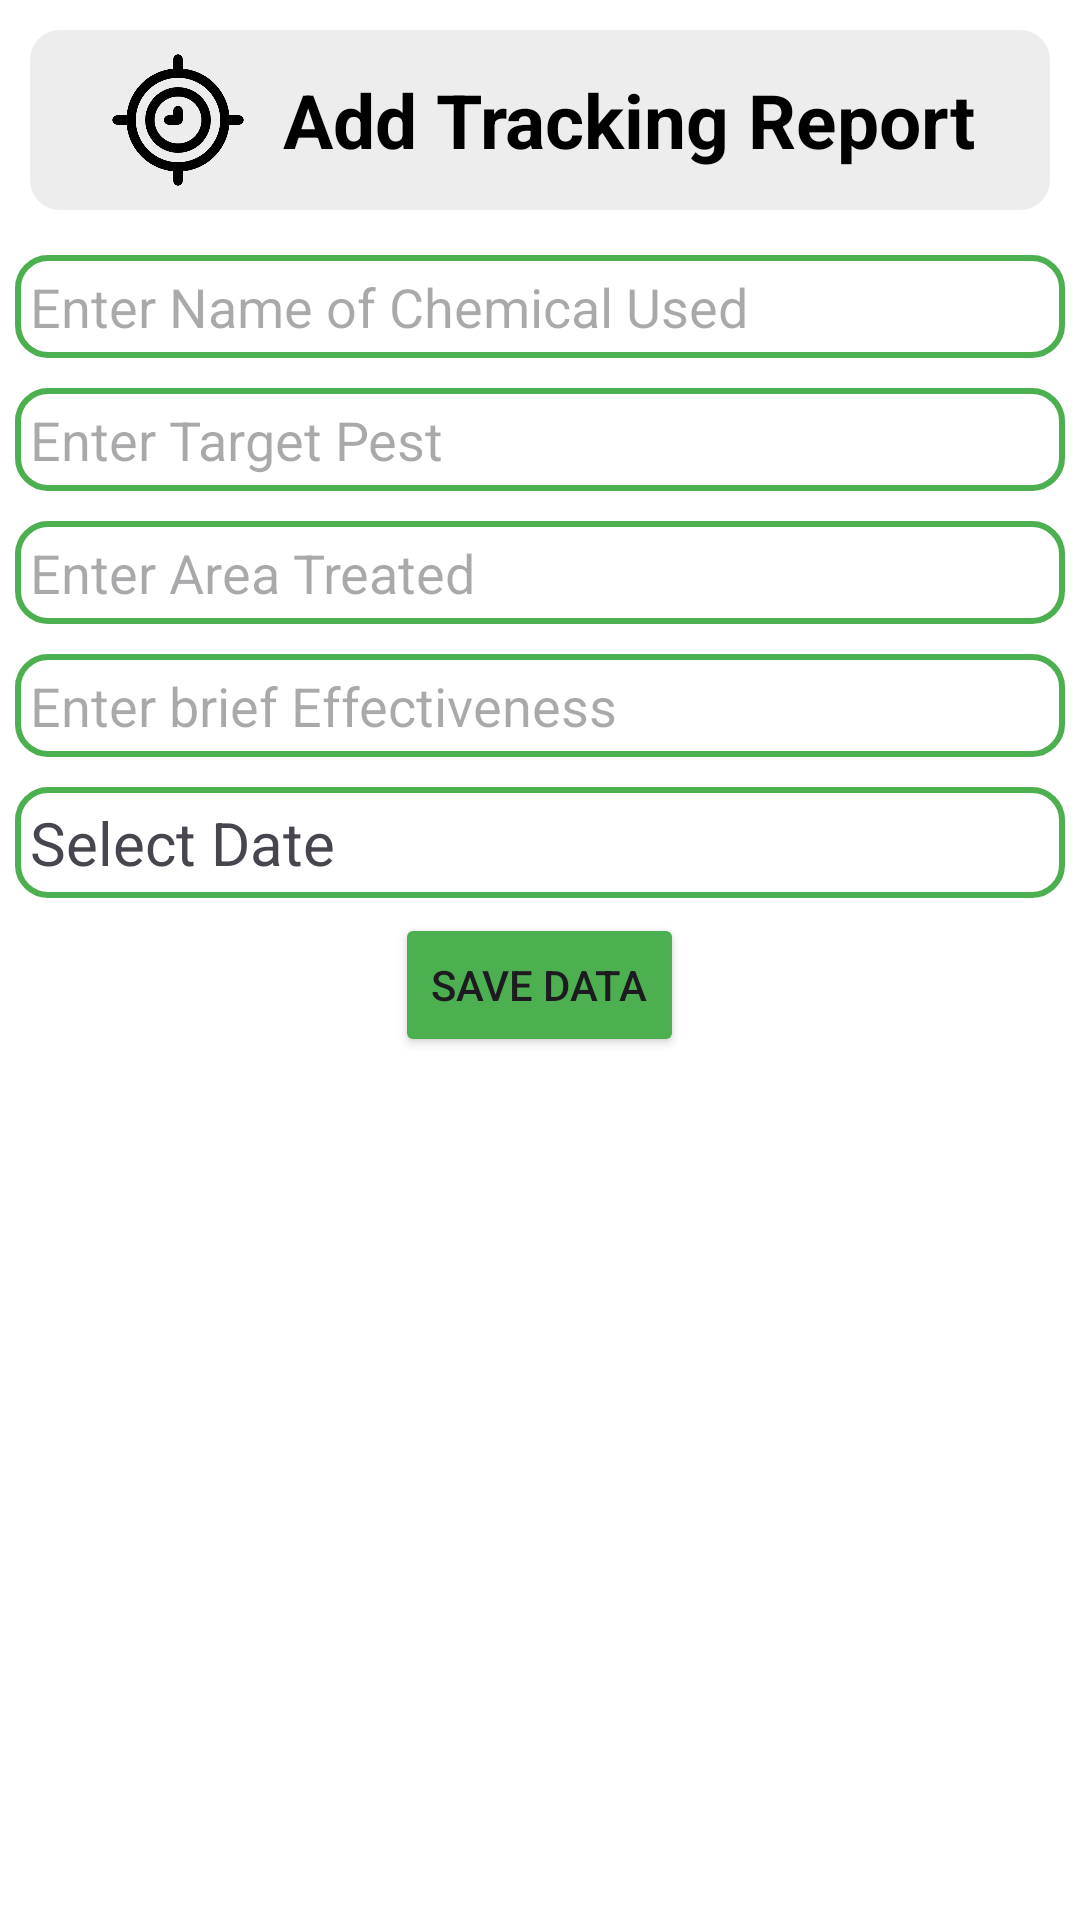

Named icons in this screenshot (1080×1920) and their bounding boxes, (x1, y1, x2, y2):
tracker: (112, 54, 244, 186)
